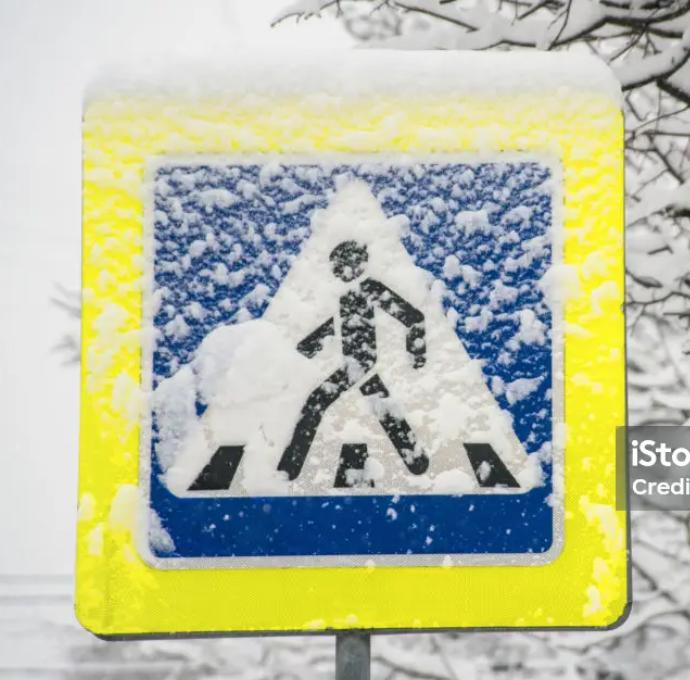obstructed_road_sign: (75, 58, 630, 637)
